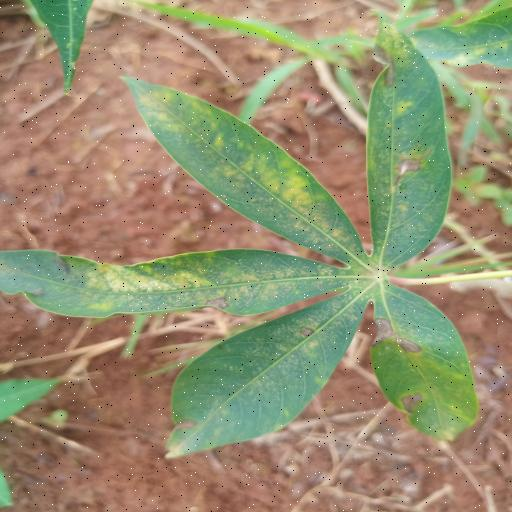Cassava_Mosaic: (25, 39, 512, 458)
